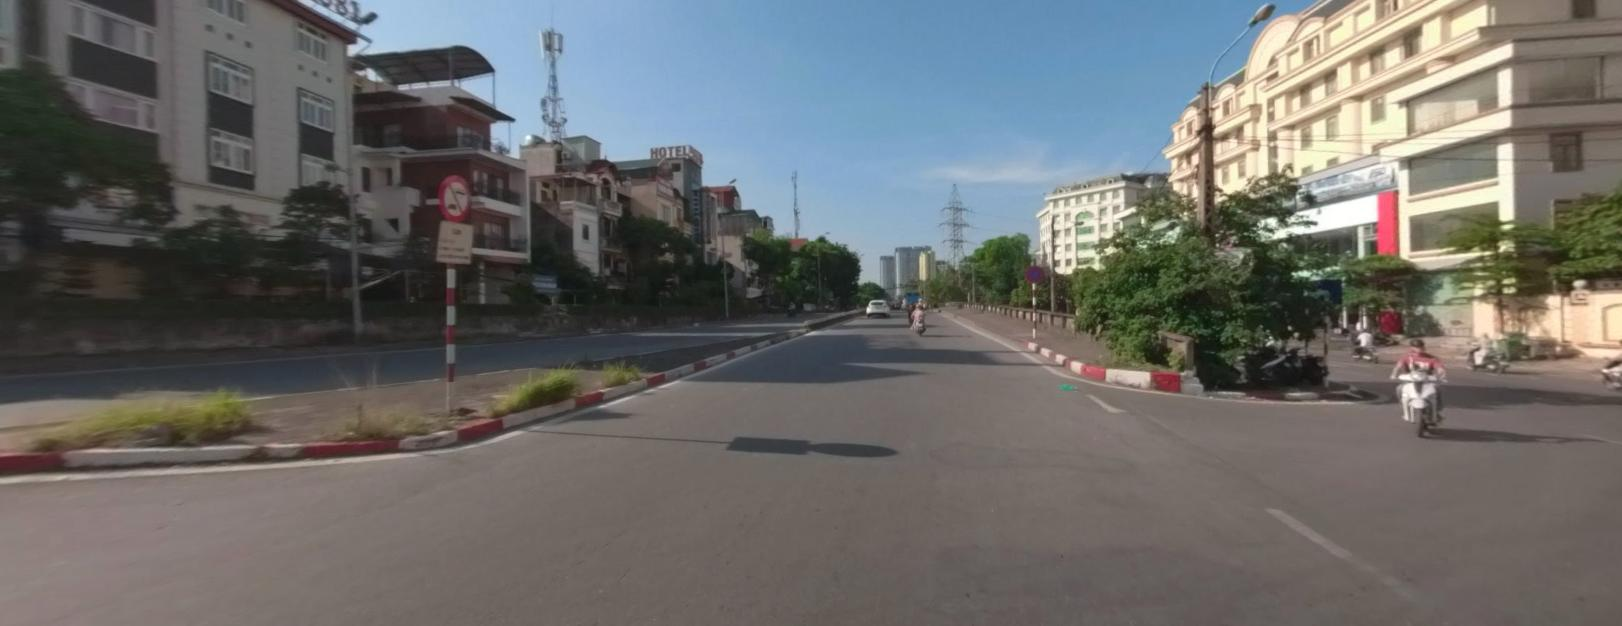Cam con lai: (441, 174, 471, 220)
Cam dung va do: (1026, 264, 1043, 281)
